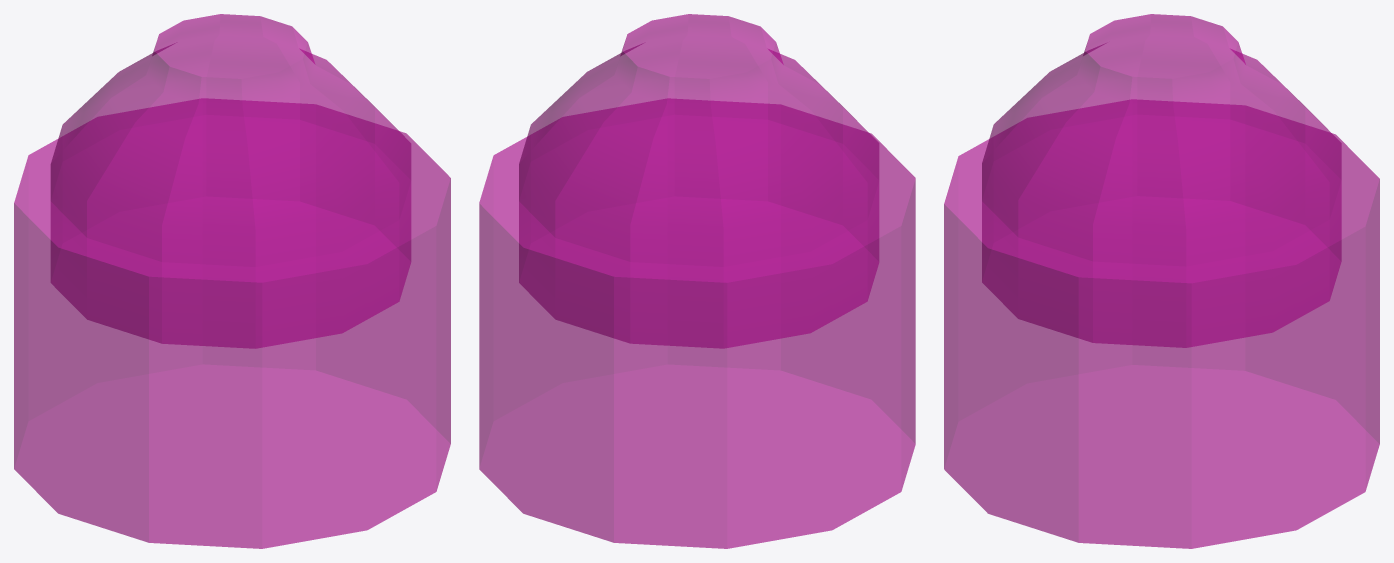
The model's file is SM_Prop_Gas_Tank_02_Collision.fbx.
The picture shows the model from 3 angles, left to right: view 1: azimuth 30°, elevation 25°; view 2: azimuth 150°, elevation 25°; view 3: azimuth 270°, elevation 25°; orthographic projection.
Parts seen in each view (by area): view 1: SM_Prop_Gas_Tank_02_Collision; view 2: SM_Prop_Gas_Tank_02_Collision; view 3: SM_Prop_Gas_Tank_02_Collision.
Boxes of the visible parts, x1,y1,x2,y2 form: SM_Prop_Gas_Tank_02_Collision: (14,14,450,548); SM_Prop_Gas_Tank_02_Collision: (479,14,915,548); SM_Prop_Gas_Tank_02_Collision: (944,14,1379,548).
Size of the model in its own units: 469 by 487 by 469.
